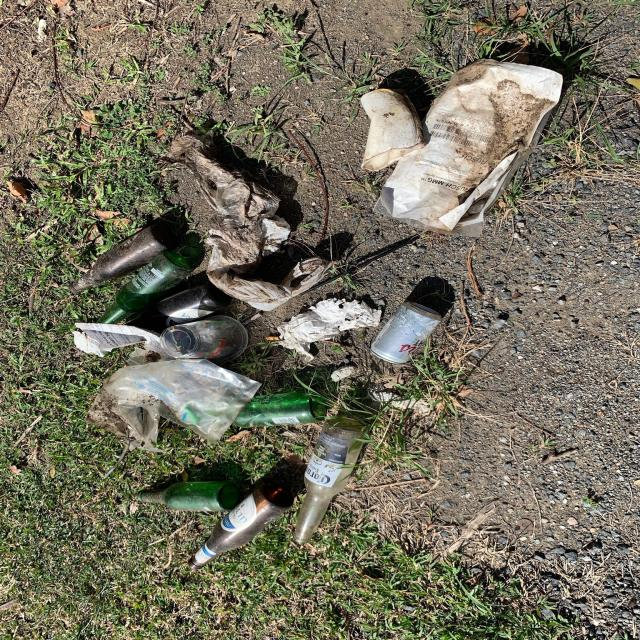litter: (375, 59, 564, 237), (168, 130, 333, 310), (82, 359, 262, 453), (292, 418, 369, 543), (188, 482, 294, 569), (96, 251, 192, 324), (70, 227, 172, 292), (298, 240, 413, 296), (72, 321, 189, 366), (360, 89, 424, 170), (370, 302, 442, 365), (128, 284, 230, 328), (161, 317, 248, 360), (234, 392, 328, 427), (137, 482, 240, 511), (265, 337, 282, 341)
